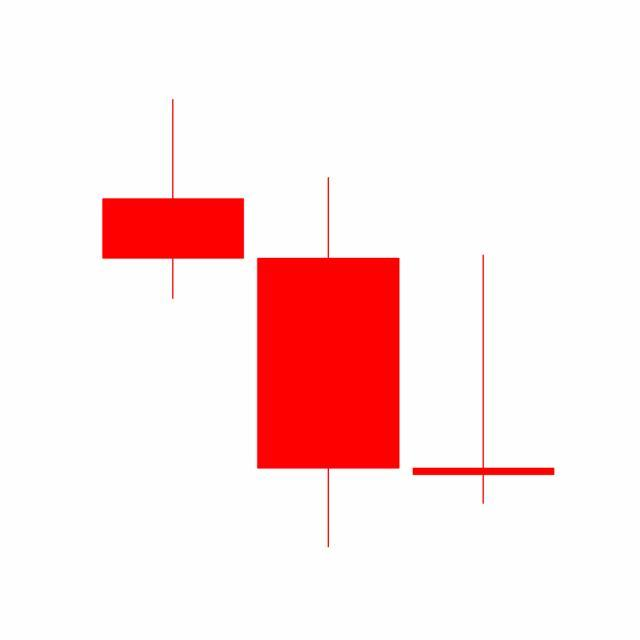Spinning Top: (406, 252, 562, 507)
